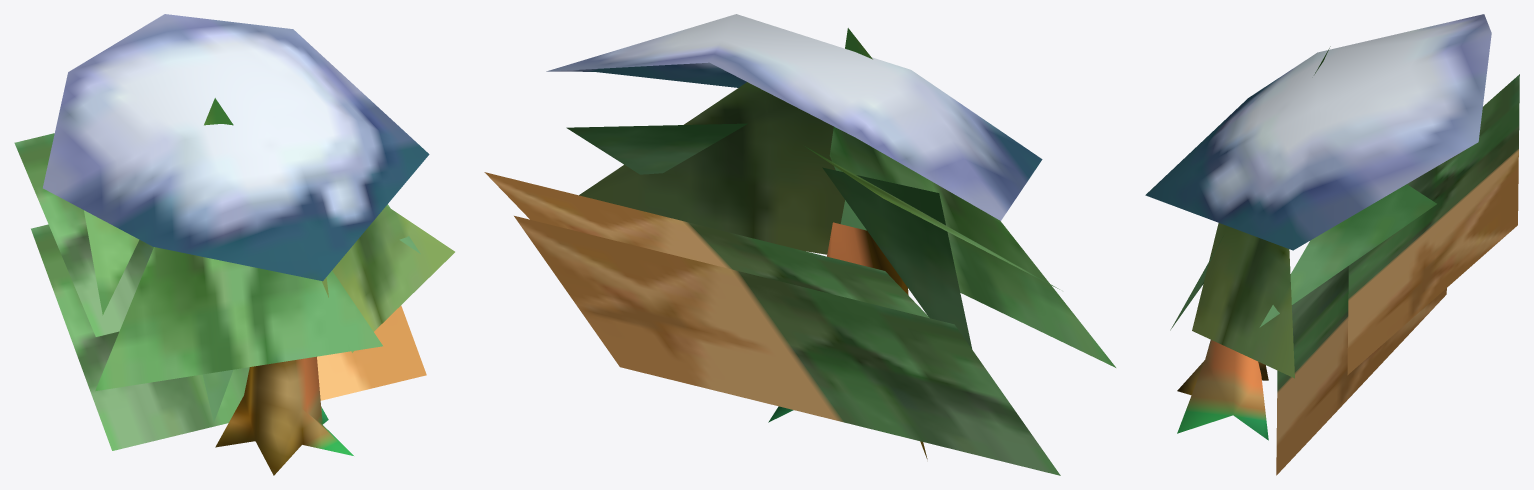
File: fg_bushE_1_s.dae
The picture shows the model from 3 angles, left to right: view 1: azimuth 30°, elevation 25°; view 2: azimuth 150°, elevation 25°; view 3: azimuth 270°, elevation 25°; orthographic projection. The views are drawn at different scales.
Parts seen in each view (by area): view 1: fg_bushE_1_s; view 2: fg_bushE_1_s; view 3: fg_bushE_1_s.
Boxes of the visible parts, x1,y1,x2,y2 form: fg_bushE_1_s: [14, 14, 454, 475]; fg_bushE_1_s: [484, 14, 1115, 475]; fg_bushE_1_s: [1145, 14, 1519, 475].
Bounding box in the file's own units: 33.31 × 29.11 × 26.23.
1 material, 1 textured.
